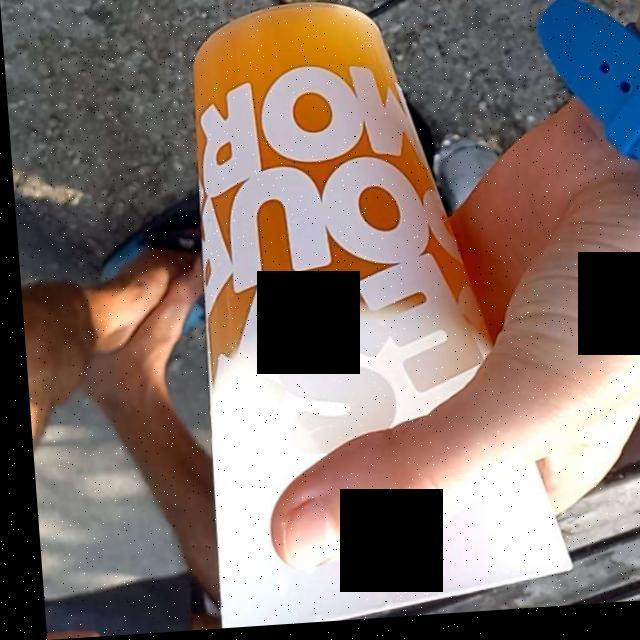beer: (191, 15, 473, 378)
